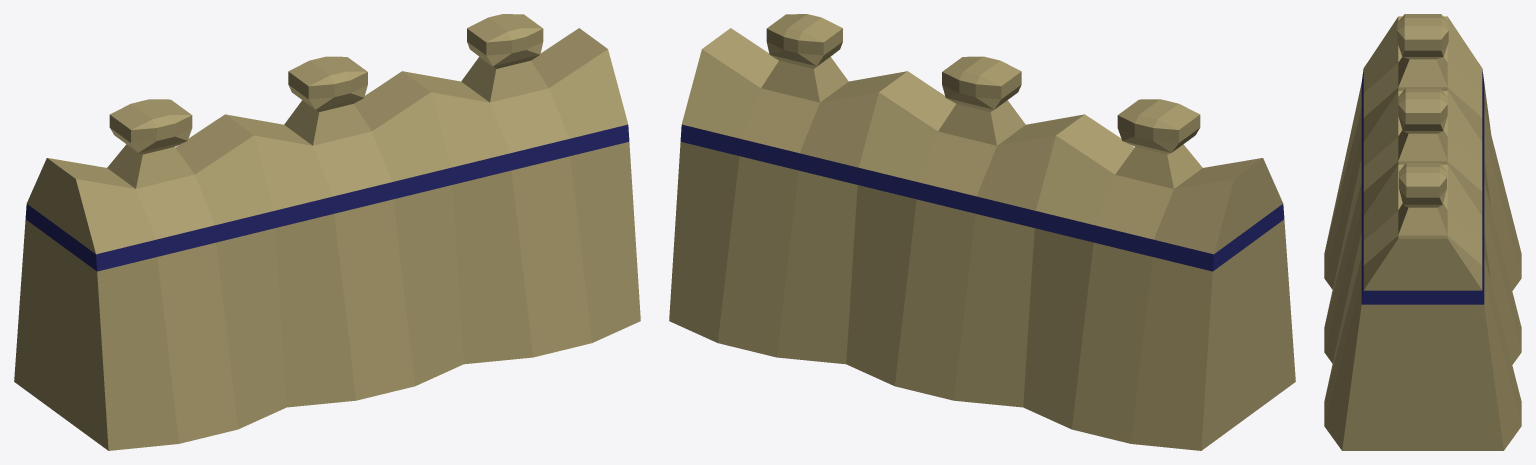
The model's file is DesertWalls.fbx.
3 renders of one model, left to right at view 1: azimuth 30°, elevation 25°; view 2: azimuth 150°, elevation 25°; view 3: azimuth 270°, elevation 25°, orthographic. The views are drawn at different scales.
Parts seen in each view (by area): view 1: Cube; view 2: Cube; view 3: Cube.
Part boxes in pixels (x1,y1,x2,y2): Cube: [14, 14, 640, 450]; Cube: [669, 14, 1295, 450]; Cube: [1324, 14, 1521, 450].
Bounding box in the file's own units: 4490 × 2299 × 1684.
